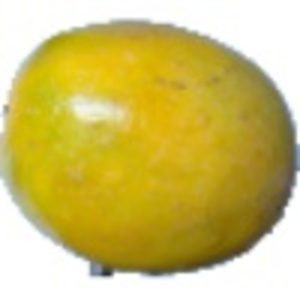maracujá: (1, 16, 300, 280)
